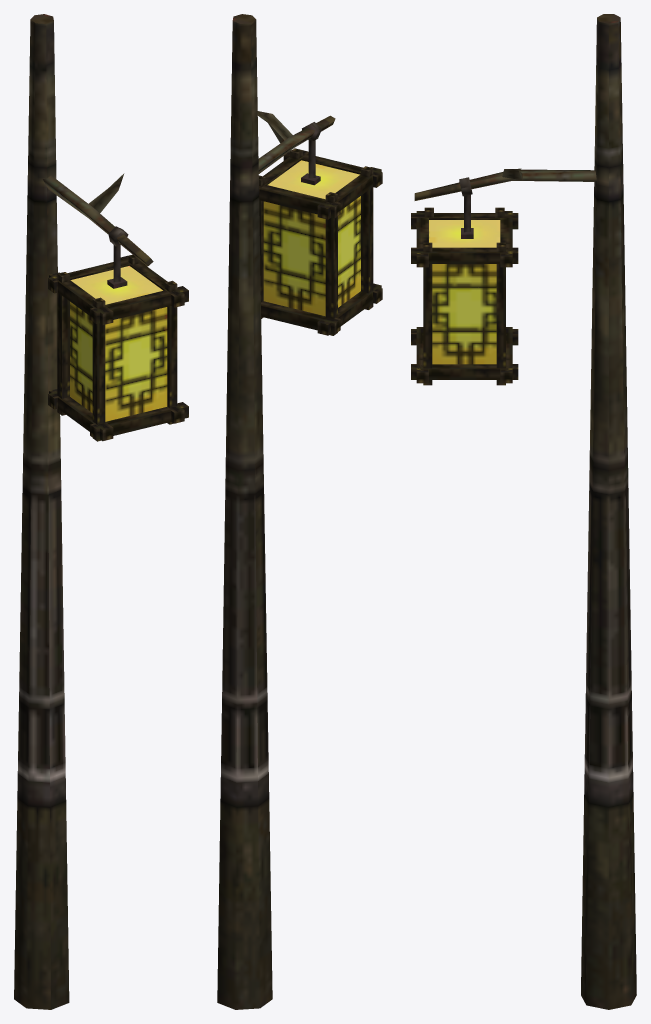
The picture shows the model from 3 angles, left to right: view 1: azimuth 30°, elevation 25°; view 2: azimuth 150°, elevation 25°; view 3: azimuth 270°, elevation 25°; orthographic projection.
Parts seen in each view (by area): view 1: jomyoung08; view 2: jomyoung08; view 3: jomyoung08.
Part boxes in pixels (x1=…): jomyoung08: x1=14, y1=14, x2=188, y2=1009; jomyoung08: x1=217, y1=14, x2=382, y2=1009; jomyoung08: x1=411, y1=14, x2=636, y2=1009.
Size of the model in its own units: 0.606 by 6.11 by 1.28.
